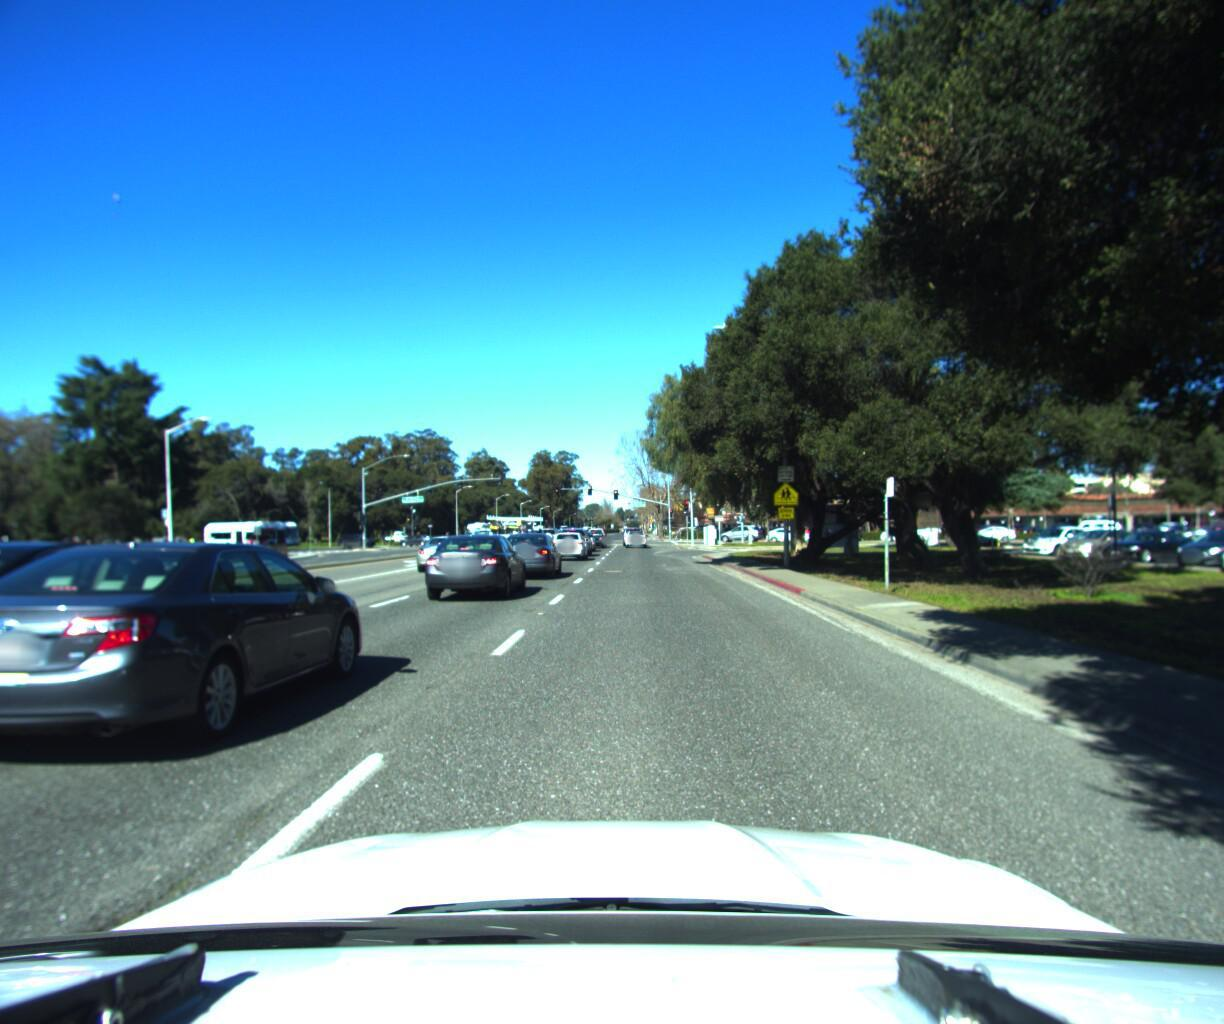car: (412, 527, 530, 605), (492, 529, 565, 580), (412, 532, 481, 573), (1052, 510, 1117, 537), (548, 528, 586, 559), (937, 522, 998, 540), (714, 520, 768, 540), (964, 521, 1017, 537), (763, 523, 815, 539), (622, 527, 646, 546)
other_vehicle: (486, 510, 543, 558)
